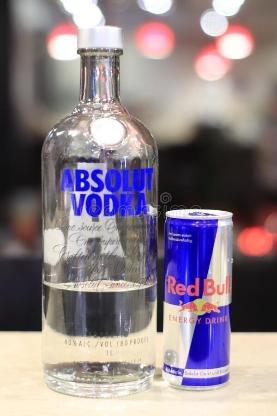Can: (162, 206, 234, 392)
Glass Bottle: (40, 28, 160, 398)
